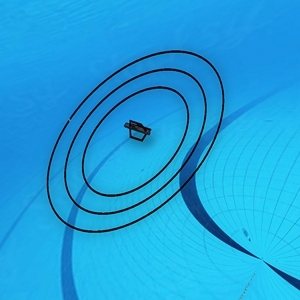circle: (46, 41, 237, 244)
submarine: (123, 116, 151, 145)
